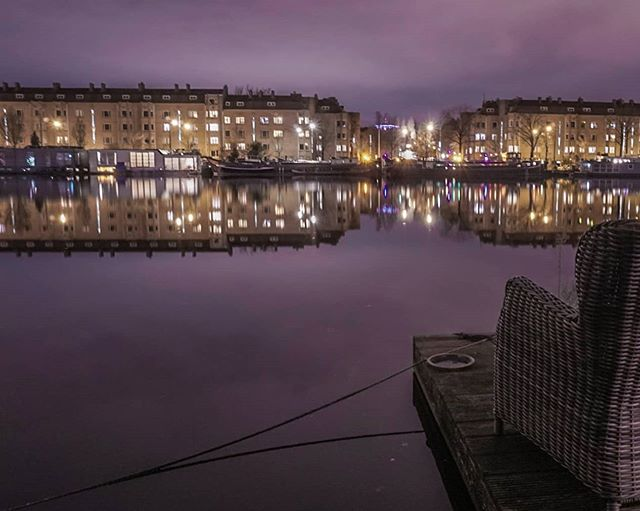building: (1, 80, 363, 174), (453, 93, 640, 168)
chair: (495, 193, 640, 511)
river: (1, 178, 588, 511)
sky: (1, 1, 629, 93)
